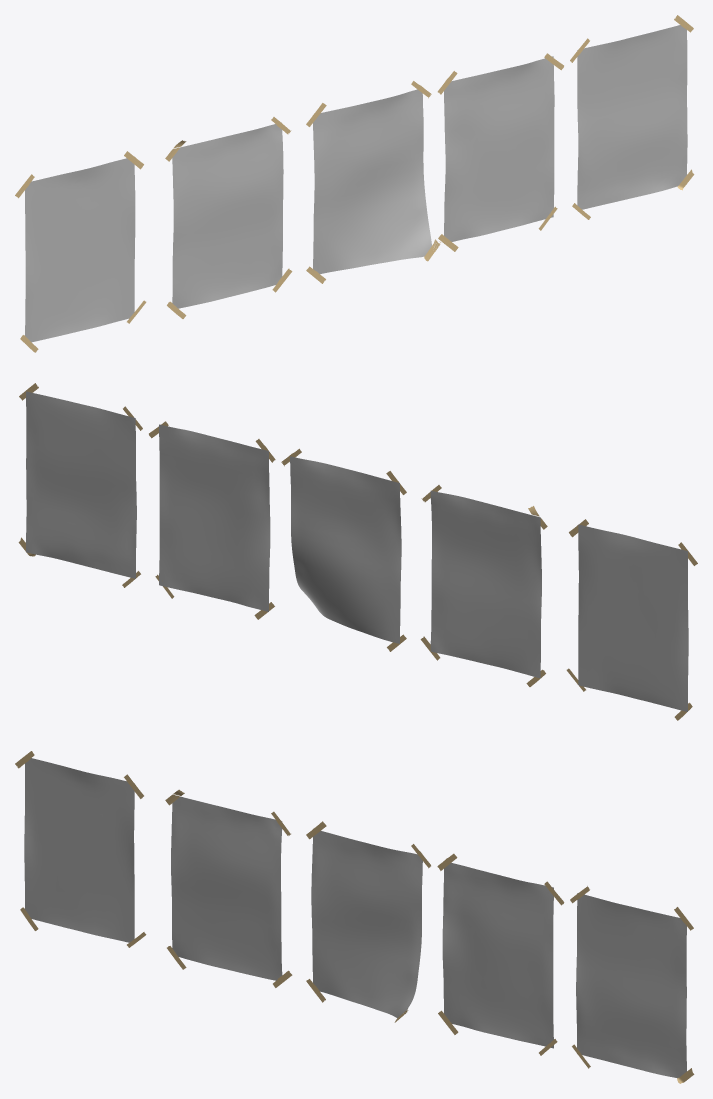
Rendered from VP_Free_Posters_FBX.FBX.
3 renders of one model, top to bottom at view 1: azimuth 30°, elevation 25°; view 2: azimuth 150°, elevation 25°; view 3: azimuth 330°, elevation 25°, orthographic.
Parts seen in each view (by area): view 1: VP_Free_Poster_3, VP_Free_Poster_2, VP_Free_Poster_1, VP_Free_Poster_5, VP_Free_Poster_4; view 2: VP_Free_Poster_4, VP_Free_Poster_2, VP_Free_Poster_1, VP_Free_Poster_5, VP_Free_Poster_3; view 3: VP_Free_Poster_4, VP_Free_Poster_2, VP_Free_Poster_1, VP_Free_Poster_5, VP_Free_Poster_3.
Part boxes in pixels (x1,y1,x2,y2): VP_Free_Poster_3: [306, 81, 440, 283]; VP_Free_Poster_2: [165, 117, 292, 318]; VP_Free_Poster_1: [15, 151, 146, 352]; VP_Free_Poster_5: [570, 15, 694, 219]; VP_Free_Poster_4: [437, 53, 563, 251]; VP_Free_Poster_4: [149, 421, 275, 619]; VP_Free_Poster_2: [420, 485, 547, 686]; VP_Free_Poster_1: [566, 519, 697, 720]; VP_Free_Poster_5: [18, 383, 142, 587]; VP_Free_Poster_3: [281, 448, 406, 651]; VP_Free_Poster_4: [437, 853, 564, 1055]; VP_Free_Poster_2: [165, 789, 292, 987]; VP_Free_Poster_1: [15, 751, 146, 947]; VP_Free_Poster_5: [570, 886, 694, 1083]; VP_Free_Poster_3: [306, 821, 430, 1022].
Size of the model in its own units: 312 by 80.8 by 13.51.
